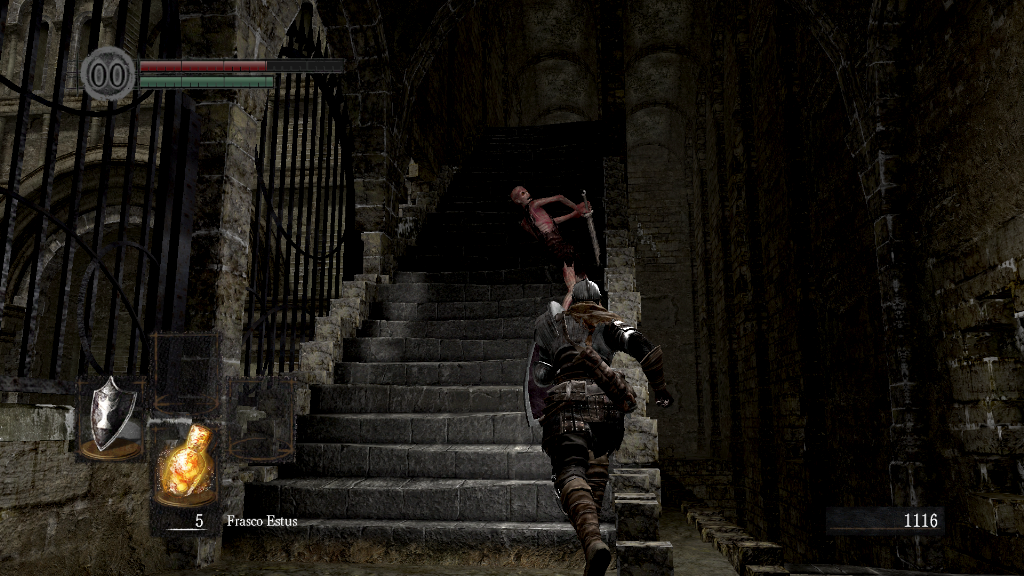health: (138, 58, 343, 71)
hollow: (506, 186, 590, 319)
humanity: (80, 45, 136, 102)
player: (521, 277, 677, 576)
souls: (825, 506, 945, 536)
stamina: (138, 74, 274, 88)
